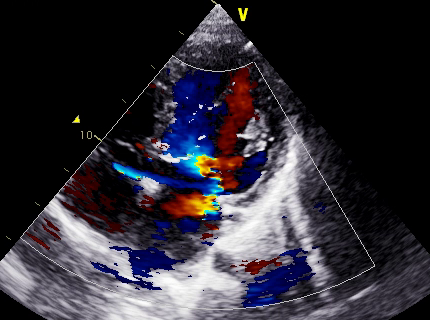MR: (162, 142, 224, 196)
